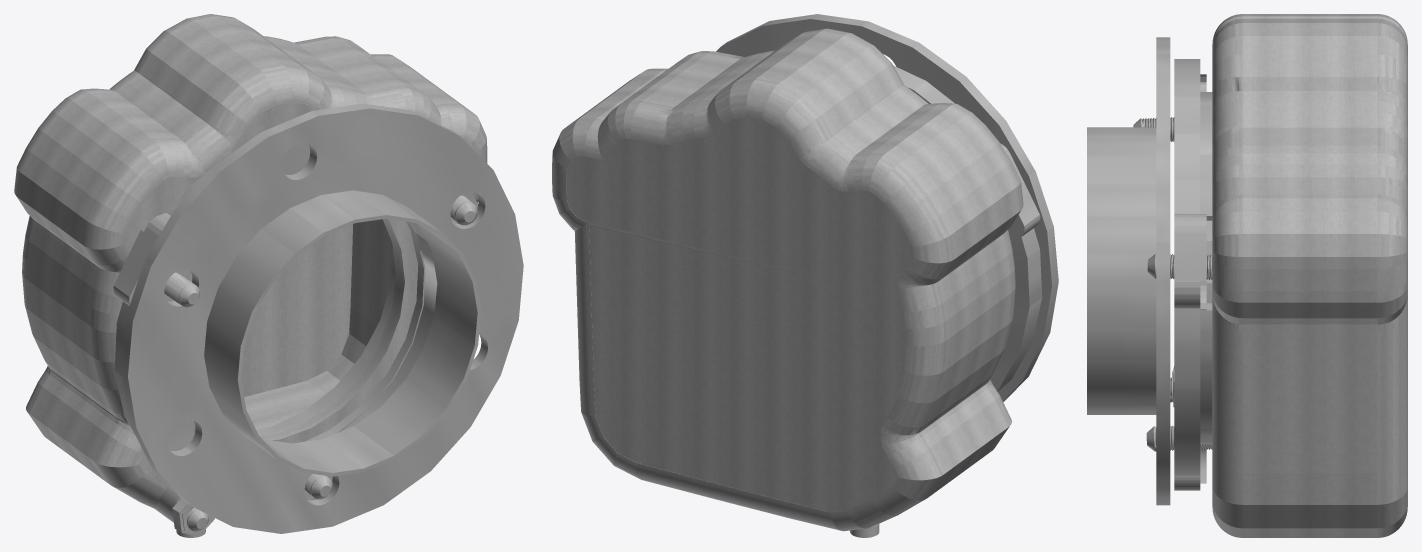
3 renders of one model, left to right at view 1: azimuth 30°, elevation 25°; view 2: azimuth 150°, elevation 25°; view 3: azimuth 270°, elevation 25°, orthographic. The views are drawn at different scales.
Visible parts, largest first — view 1: 1, 1.001, 7.002, 8, 7.003; view 2: 1, 1.001; view 3: 1, 1.001, 7.003, 7.004.
Part boxes in pixels (left/top/right/bottom): 1: left=14, top=14, right=487, bottom=522; 1.001: left=121, top=103, right=523, bottom=533; 7.002: left=164, top=272, right=199, bottom=307; 8: left=172, top=499, right=214, bottom=535; 7.003: left=450, top=195, right=477, bottom=225; 1: left=552, top=28, right=1042, bottom=531; 1.001: left=716, top=14, right=1058, bottom=401; 1: left=1174, top=14, right=1407, bottom=537; 1.001: left=1087, top=37, right=1170, bottom=505; 7.003: left=1147, top=253, right=1212, bottom=279; 7.004: left=1146, top=425, right=1212, bottom=451.
Size of the model in its own units: 250 by 281 by 168.
Materials: 7 (7 with a texture image).
